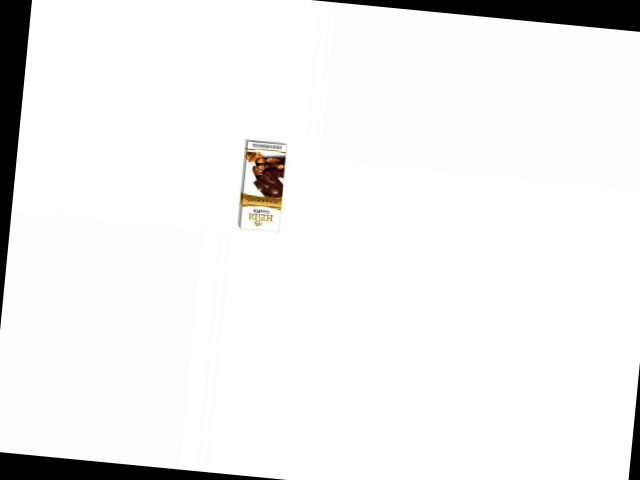chocolate: (229, 139, 296, 238)
